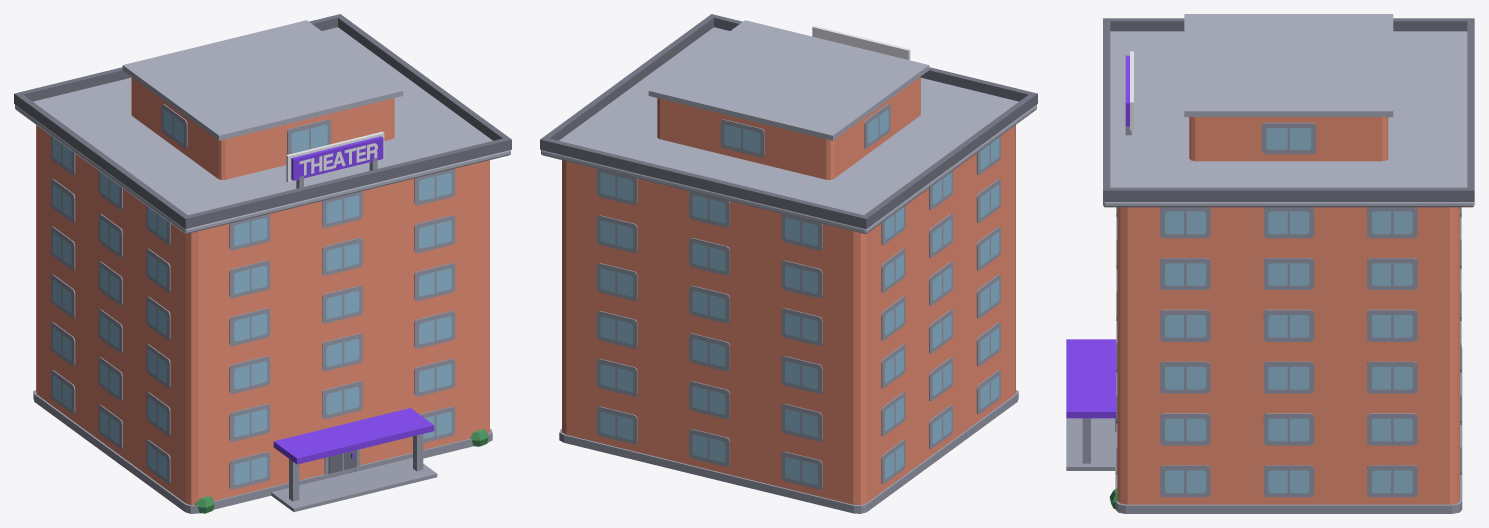
Rendered from theater-2x2-6f.glb.
3 renders of one model, left to right at view 1: azimuth 30°, elevation 25°; view 2: azimuth 150°, elevation 25°; view 3: azimuth 270°, elevation 25°, orthographic. The views are drawn at different scales.
Parts seen in each view (by area): view 1: theater-2x2-6f; view 2: theater-2x2-6f; view 3: theater-2x2-6f.
Part boxes in pixels (x1,y1,x2,y2): theater-2x2-6f: [14, 14, 511, 513]; theater-2x2-6f: [540, 14, 1037, 513]; theater-2x2-6f: [1066, 14, 1474, 513].
Size of the model in its own units: 2 by 2 by 2.
Materials: 1 (1 with a texture image).
